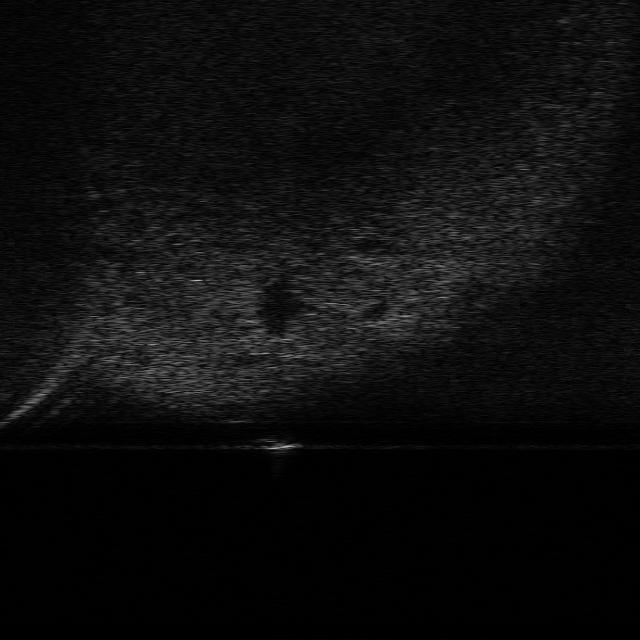cube: (255, 438, 307, 454)
